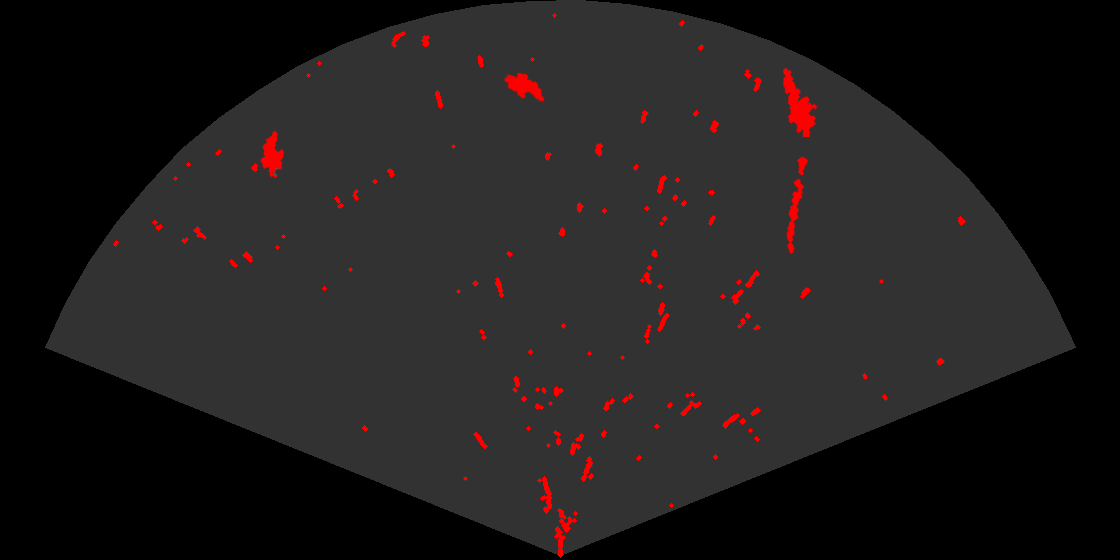AUV: (259, 129, 286, 180), (503, 71, 546, 103)
chain: (785, 154, 809, 256)
frogman: (782, 66, 819, 137)
